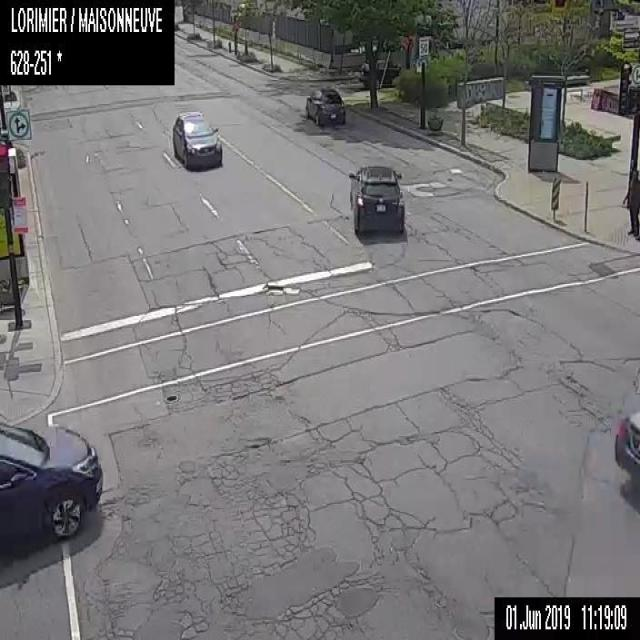pedestrian: (622, 169, 639, 235)
vehicle: (0, 420, 104, 540), (347, 162, 404, 235), (171, 110, 222, 170), (612, 412, 639, 481), (304, 85, 346, 124), (358, 57, 402, 87)
